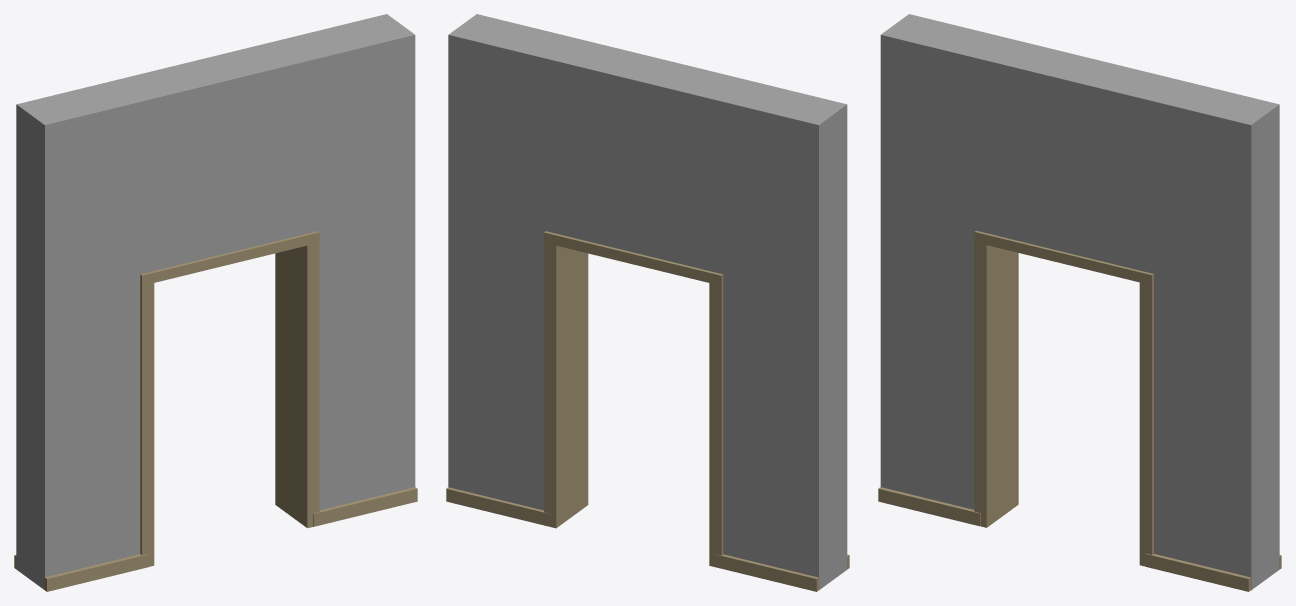
Rendered from SM_DoorFrame.fbx.
3 renders of one model, left to right at view 1: azimuth 30°, elevation 25°; view 2: azimuth 150°, elevation 25°; view 3: azimuth 330°, elevation 25°, orthographic.
Visible parts, largest first — view 1: SM_DoorFrame; view 2: SM_DoorFrame; view 3: SM_DoorFrame.
Part boxes in pixels (box(x1,y1,x2,y2)): SM_DoorFrame: box(14, 14, 417, 591); SM_DoorFrame: box(446, 14, 849, 591); SM_DoorFrame: box(878, 14, 1281, 591).
Size of the model in its own units: 301 by 361 by 46.06.
